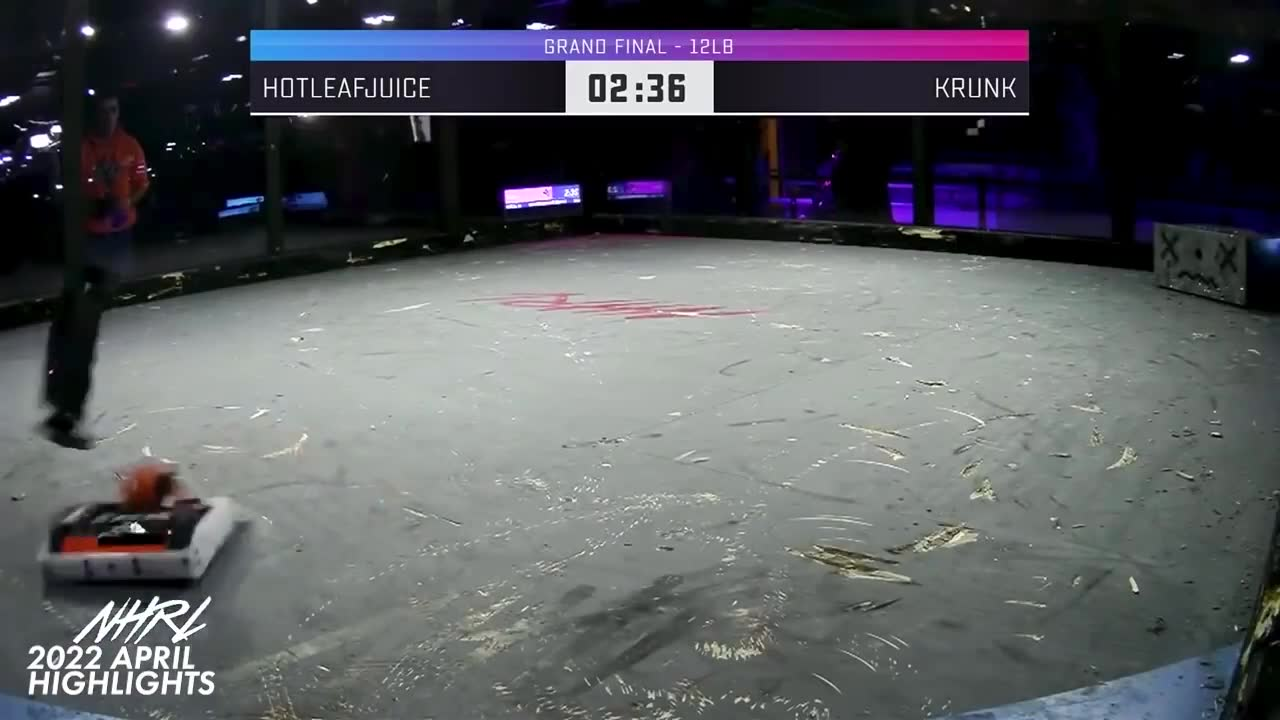combatbot: (42, 466, 253, 585), (35, 265, 118, 445)
housebot: (1154, 225, 1280, 314)
